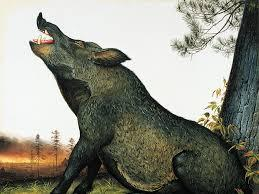wildboar: (27, 8, 254, 194)
